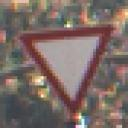preferencia: (14, 24, 120, 114)
